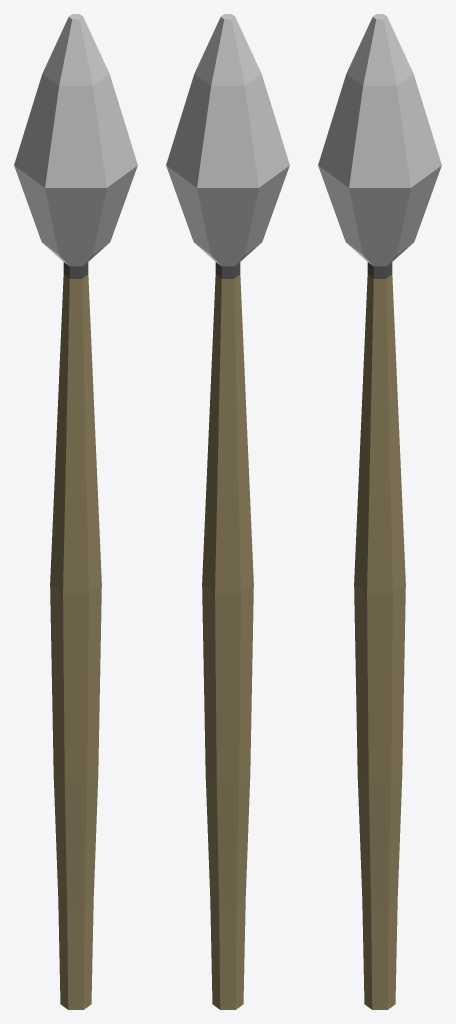
The model's file is Painting_Brush.fbx.
3 views of the same model, side by side, from view 1: azimuth 30°, elevation 25°; view 2: azimuth 210°, elevation 25°; view 3: azimuth 270°, elevation 25° (orthographic).
Visible parts, largest first — view 1: Cylinder.003; view 2: Cylinder.003; view 3: Cylinder.003.
Boxes of the visible parts, x1=… form: Cylinder.003: x1=14, y1=14, x2=137, y2=1009; Cylinder.003: x1=166, y1=14, x2=289, y2=1009; Cylinder.003: x1=318, y1=14, x2=441, y2=1009.
Bounding box in the file's own units: 5.6 × 56.89 × 6.47.
